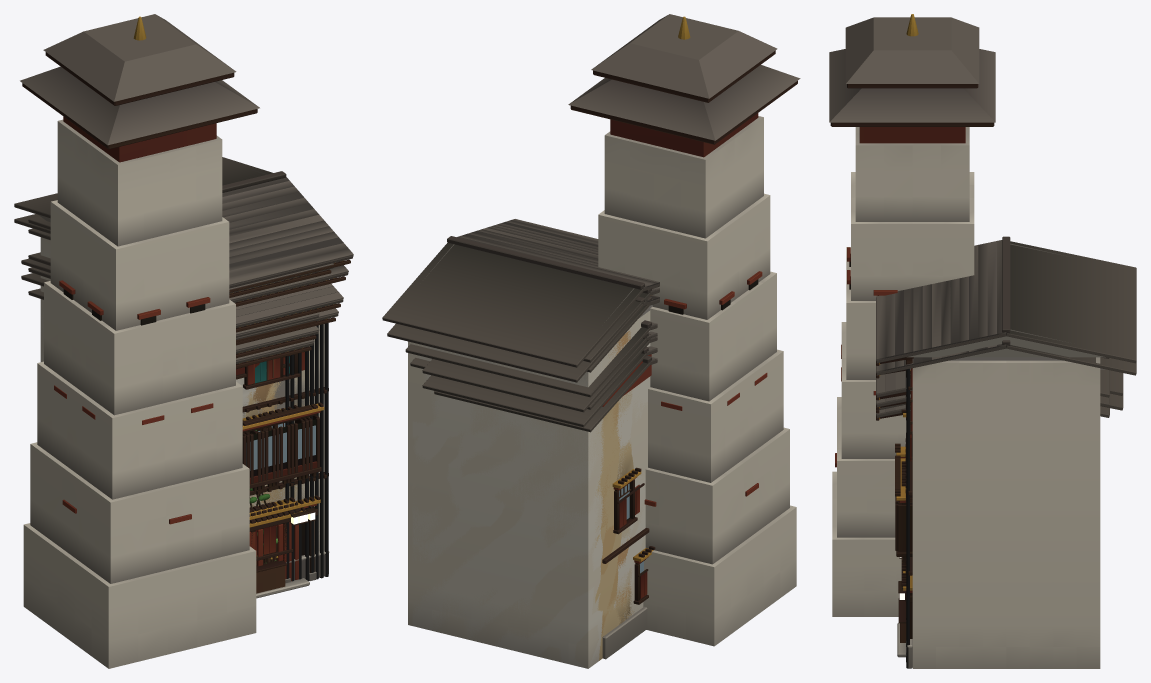
The model's file is town.glb.
3 renders of one model, left to right at view 1: azimuth 30°, elevation 25°; view 2: azimuth 150°, elevation 25°; view 3: azimuth 270°, elevation 25°, orthographic. The views are drawn at different scales.
Visible parts, largest first — view 1: bell_tower, east_0, west_0, far_0, east_2, west_1, east_1, far_1, west_2, east_3; view 2: bell_tower, east_0, east_2, west_0, east_1, east_3, far_1, west_2, far_0, west_1; view 3: east_0, bell_tower, east_2, west_0, east_1, far_0.
Part boxes in pixels (bbox=[...]): bell_tower: bbox=[20, 14, 259, 668]; east_0: bbox=[14, 157, 353, 580]; west_0: bbox=[28, 252, 343, 579]; far_0: bbox=[28, 267, 338, 597]; east_2: bbox=[14, 214, 348, 596]; west_1: bbox=[28, 216, 333, 597]; east_1: bbox=[21, 273, 319, 593]; far_1: bbox=[28, 228, 325, 598]; west_2: bbox=[28, 288, 314, 578]; east_3: bbox=[21, 258, 319, 580]; bell_tower: bbox=[568, 14, 800, 646]; east_0: bbox=[382, 219, 659, 668]; east_2: bbox=[387, 295, 659, 668]; west_0: bbox=[405, 320, 657, 659]; east_1: bbox=[422, 346, 657, 660]; east_3: bbox=[422, 331, 657, 660]; far_1: bbox=[587, 296, 659, 619]; west_2: bbox=[434, 355, 657, 622]; far_0: bbox=[410, 333, 657, 606]; west_1: bbox=[583, 287, 659, 606]; east_0: bbox=[876, 236, 1136, 668]; bell_tower: bbox=[829, 14, 995, 616]; east_2: bbox=[876, 340, 1136, 657]; west_0: bbox=[876, 369, 1109, 619]; east_1: bbox=[876, 393, 1123, 646]; far_0: bbox=[876, 394, 1109, 647].
Bounding box in the file's own units: 11.02 × 23.45 × 11.47.
